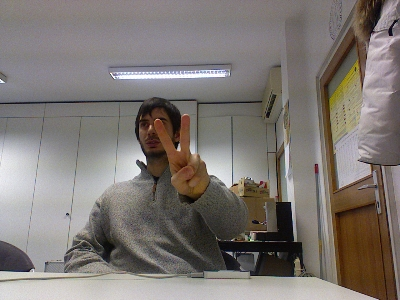剪刀: (150, 112, 212, 197)
